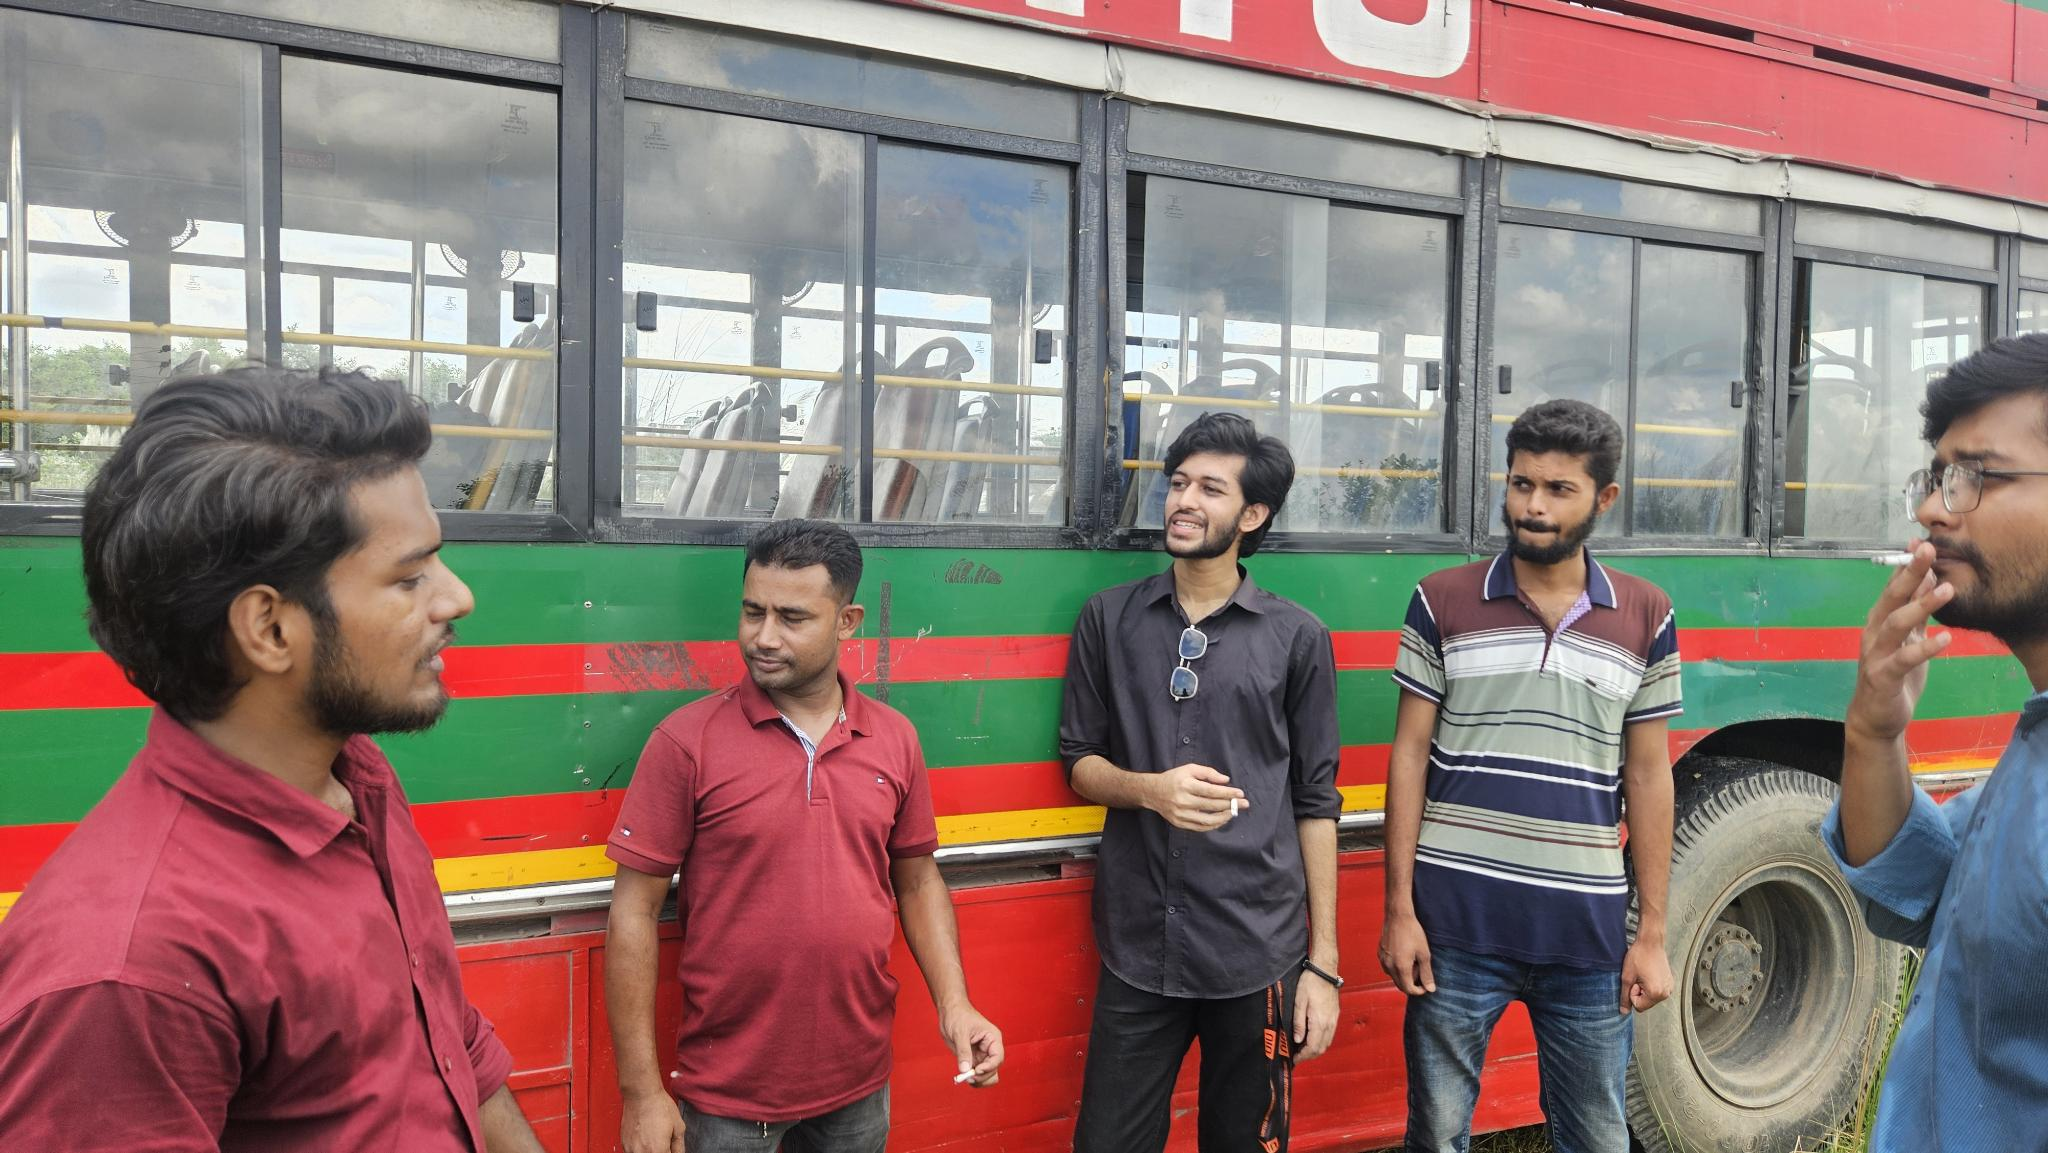cigarette: (1867, 547, 1920, 571), (951, 1066, 978, 1086), (1228, 796, 1241, 820)
nonSmoker: (0, 368, 540, 1153), (1378, 398, 1681, 1153)
smoker: (605, 519, 1006, 1153), (1059, 413, 1343, 1153), (1820, 329, 2048, 1153)
